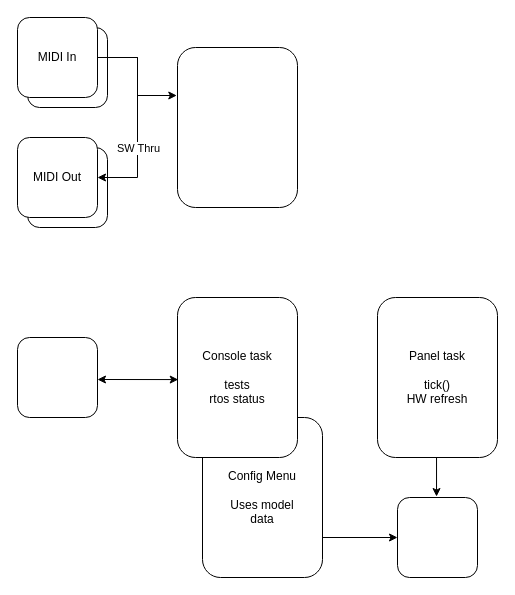
Some shapes in this 515 by 595 pixel diagram are drawn without their labels. The centre of each missing label's shape, as x and y in pixels:
Midi Handlers: the point at 237,127
MVC: the point at 437,537
serial: the point at 57,377
